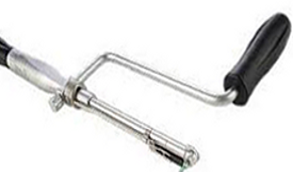Screwdriver: (4, 11, 293, 172)
